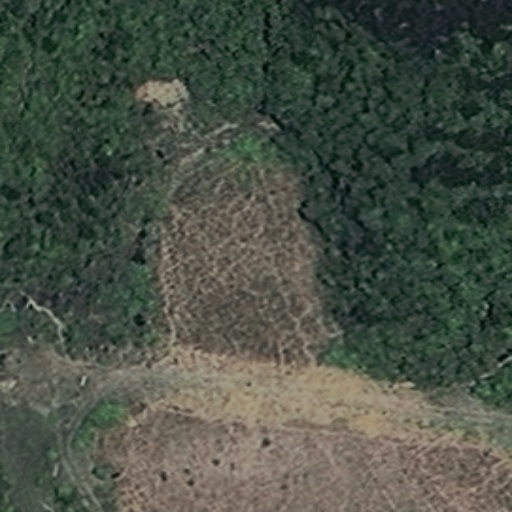landslide: (158, 147, 337, 377)
